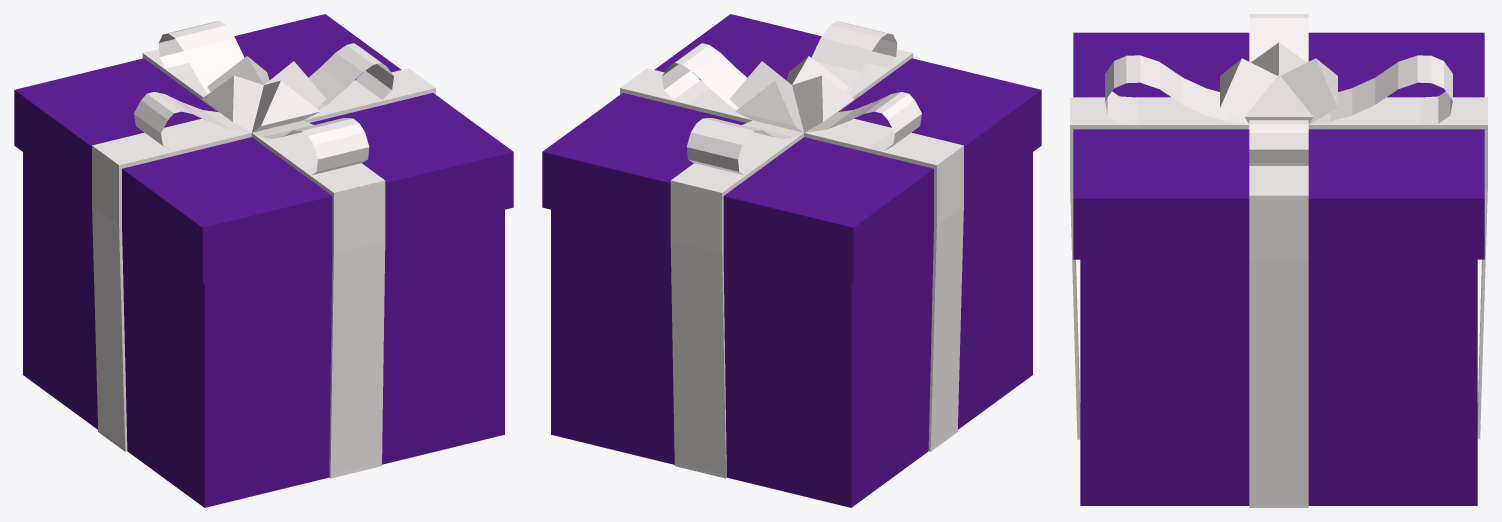
Rendered from Present_Square_Purple.fbx.
3 views of the same model, side by side, from view 1: azimuth 30°, elevation 25°; view 2: azimuth 150°, elevation 25°; view 3: azimuth 270°, elevation 25° (orthographic). The views are drawn at different scales.
Visible parts, largest first — view 1: Present; view 2: Present; view 3: Present.
Part boxes in pixels (<box>): Present: <box>14,14,513,507</box>; Present: <box>542,14,1041,507</box>; Present: <box>1070,14,1487,507</box>.
Bounding box in the file's own units: 164 × 166 × 171.
